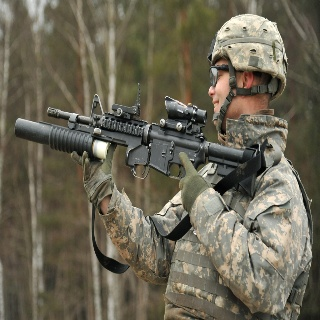rifle: (10, 81, 259, 196)
